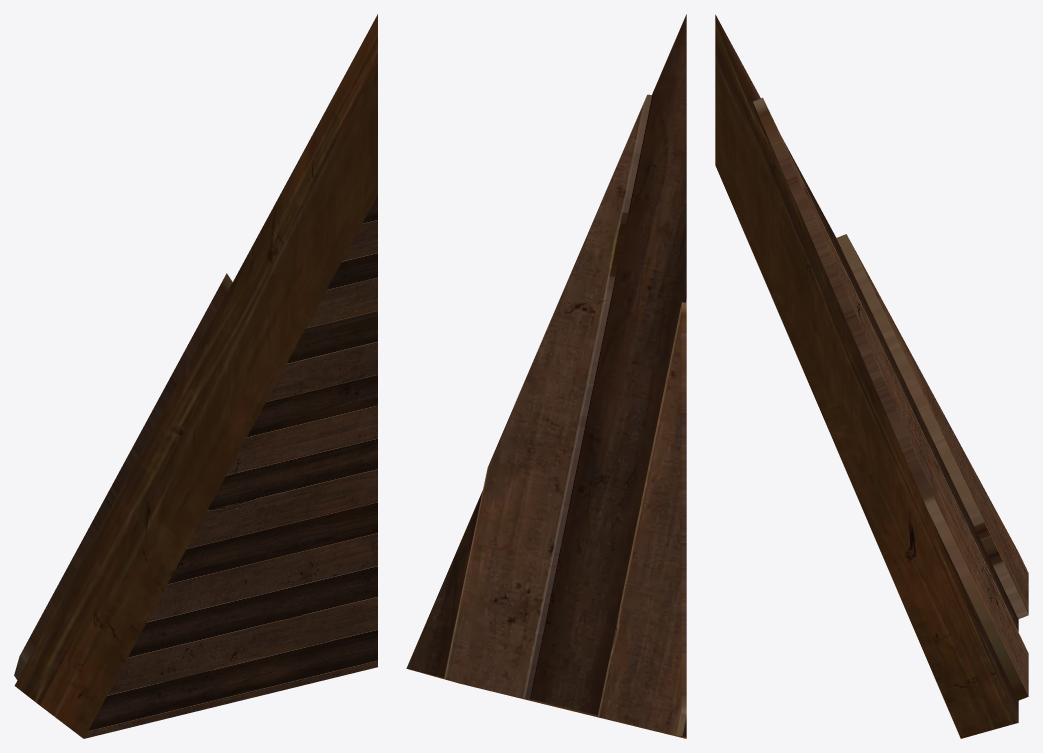
The picture shows the model from 3 angles, left to right: view 1: azimuth 30°, elevation 25°; view 2: azimuth 150°, elevation 25°; view 3: azimuth 270°, elevation 25°; orthographic projection. The views are drawn at different scales.
Parts seen in each view (by area): view 1: SM_BB_T2_Roof_Triangle_Steep_Large_Inverted_LOD0; view 2: SM_BB_T2_Roof_Triangle_Steep_Large_Inverted_LOD0; view 3: SM_BB_T2_Roof_Triangle_Steep_Large_Inverted_LOD0.
Boxes of the visible parts, x1,y1,x2,y2 form: SM_BB_T2_Roof_Triangle_Steep_Large_Inverted_LOD0: (14, 14, 377, 738); SM_BB_T2_Roof_Triangle_Steep_Large_Inverted_LOD0: (406, 14, 686, 738); SM_BB_T2_Roof_Triangle_Steep_Large_Inverted_LOD0: (715, 14, 1028, 738).
Bounding box in the file's own units: 1.57 × 3.3 × 1.41.
Materials: 2 (2 with a texture image).
